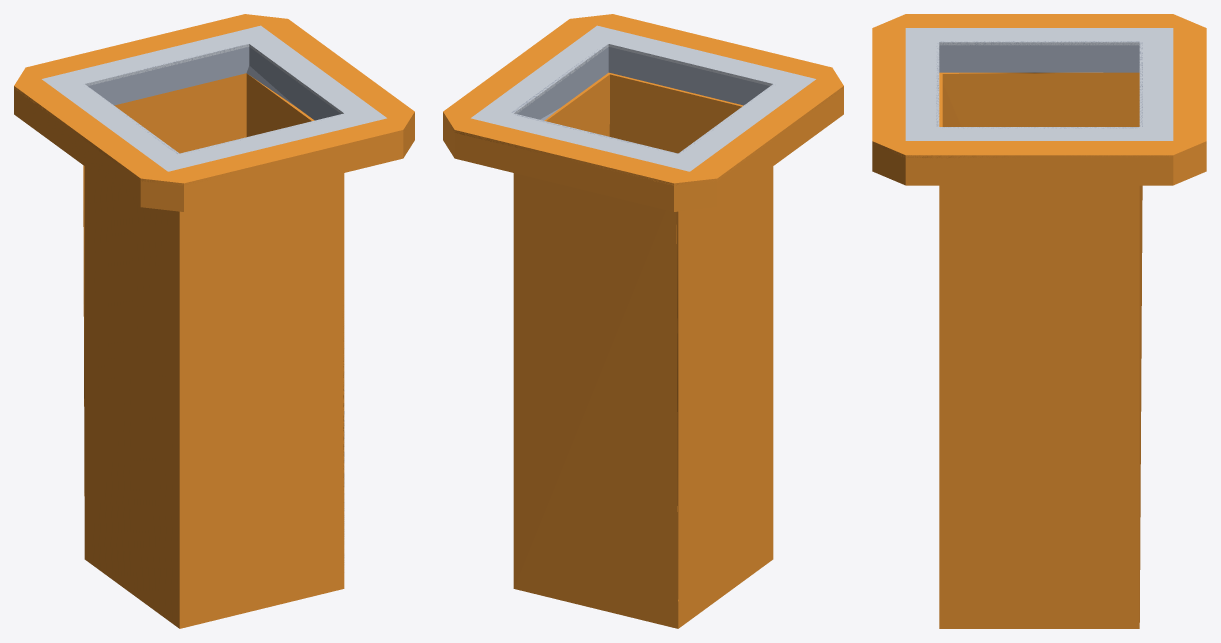
File: Hole.fbx
3 renders of one model, left to right at view 1: azimuth 30°, elevation 25°; view 2: azimuth 150°, elevation 25°; view 3: azimuth 270°, elevation 25°, orthographic. The views are drawn at different scales.
Visible parts, largest first — view 1: platform_high; view 2: platform_high; view 3: platform_high.
Boxes of the visible parts, bbox=[...] form: platform_high: bbox=[14, 14, 414, 628]; platform_high: bbox=[443, 14, 843, 628]; platform_high: bbox=[872, 14, 1206, 628].
Size of the model in its own units: 39.37 by 65.23 by 39.37.
